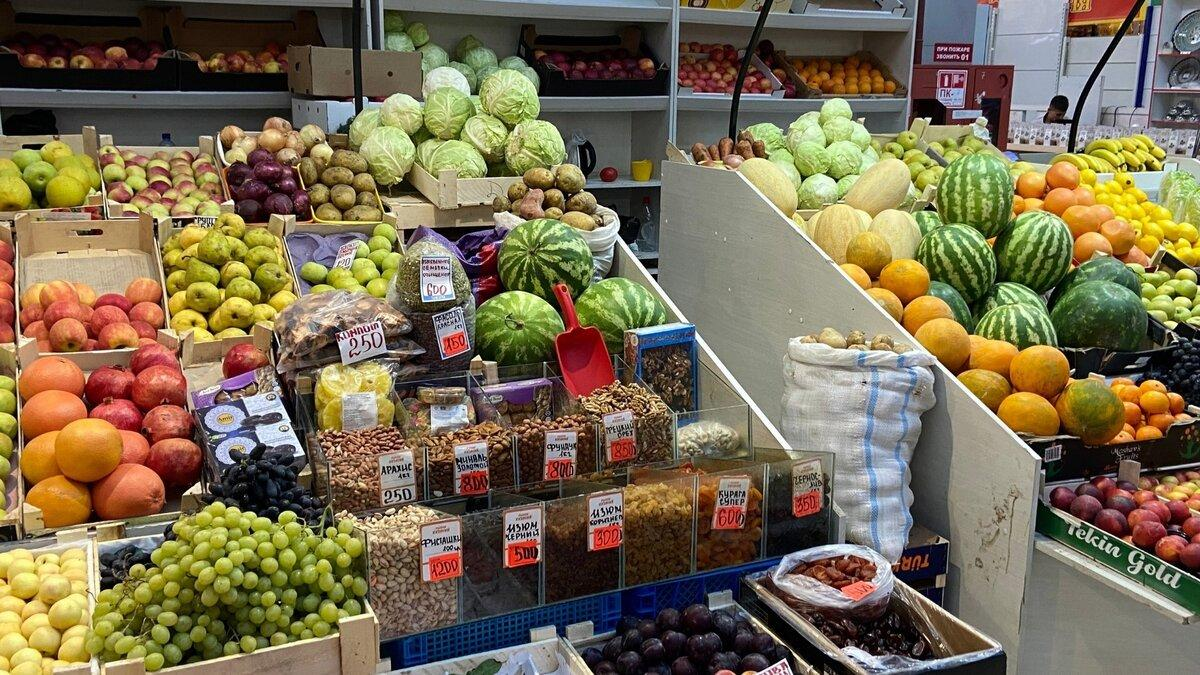banana: (1048, 125, 1167, 173), (1067, 131, 1164, 172)
cabbage: (355, 70, 568, 181), (754, 101, 866, 204), (381, 11, 536, 81)
grapes: (98, 458, 373, 660), (1157, 332, 1200, 401)
green apple: (296, 223, 408, 299), (0, 141, 98, 211), (1140, 259, 1200, 334)
lemon: (1102, 178, 1200, 258)
mandarin: (1106, 369, 1186, 437)
melon: (745, 165, 914, 259)
onion: (226, 121, 305, 212)
orange: (962, 337, 1115, 441), (842, 239, 964, 365), (797, 50, 901, 97)
pear: (165, 226, 291, 337)
pomegranate: (93, 352, 207, 510), (220, 342, 273, 378)
potato: (302, 134, 373, 221), (496, 168, 601, 221)
red apple: (24, 278, 163, 348), (13, 32, 164, 74)
watermelon: (474, 220, 669, 347), (927, 247, 1147, 349), (919, 151, 1071, 297)
